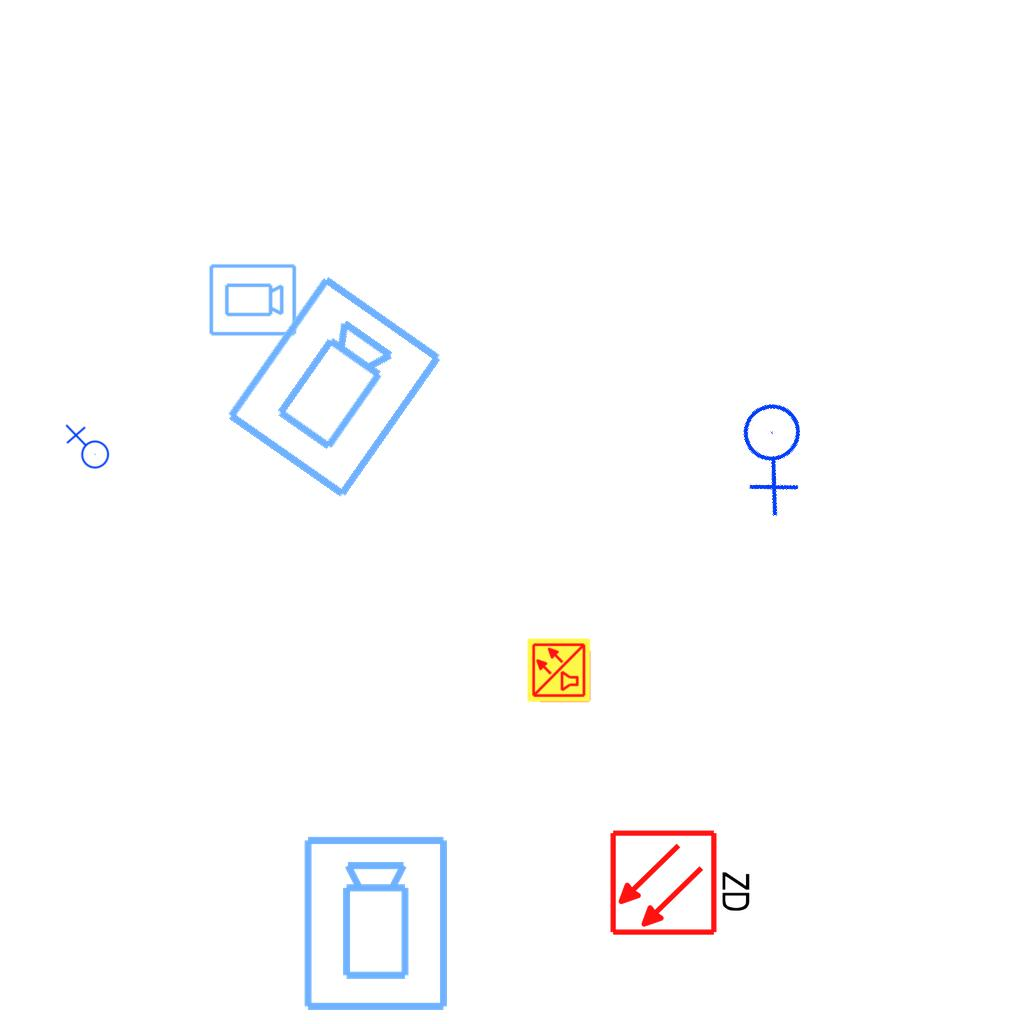Elektroanschluss_allgemein_230V_Geraeteanschlussdose_230V: (708, 384, 845, 522), (63, 424, 110, 473)
KFO_Kamera_mit_Festobjektiv: (219, 269, 451, 507), (300, 833, 454, 1015), (207, 262, 298, 339)
OKW_Multisensormelder_(Kombination_optischer_Rauch-Kahlenmonoxid_Waerme-Melder): (526, 637, 592, 703)
ZD_Melder_in_Zwischendecke_mit_Revisionsoeffnung_mind_40_x_40_cm: (608, 824, 757, 938)
